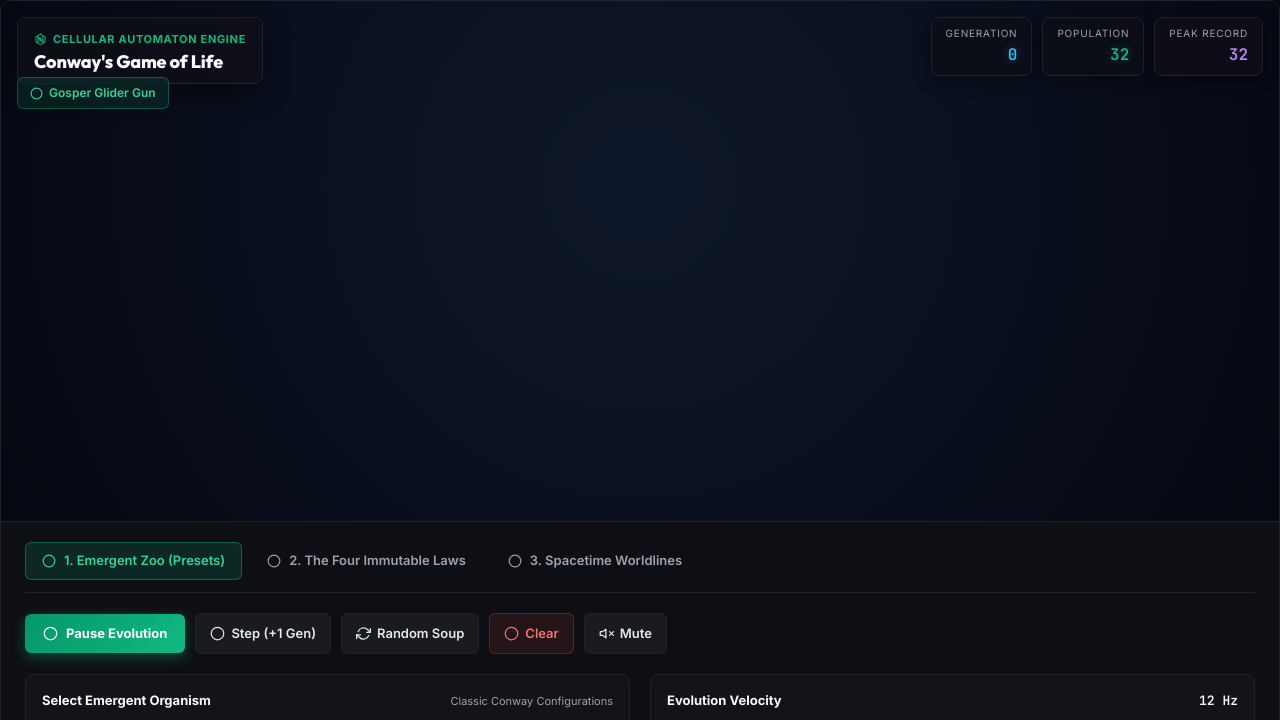
Scenario: ConwaysGameOfLife3DLab › allows stepping forward exactly 1 generation
Click the button with aria-label "Step Generation": (263, 633) [195,612,331,654]
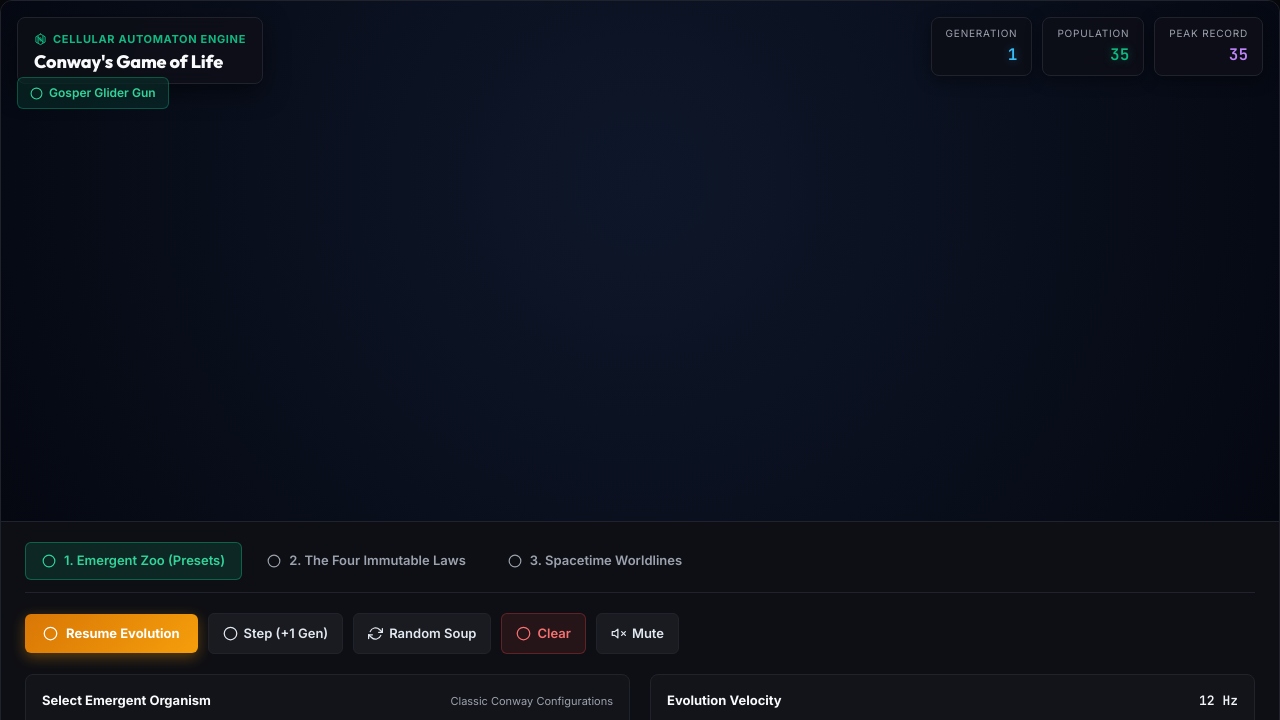
Expected: the button with aria-label "Resume Simulation" is shown, [25,614,198,653]
